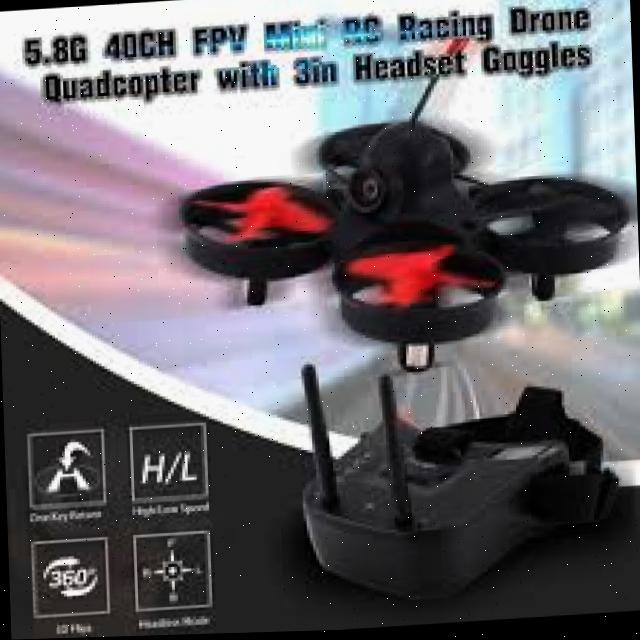drone: (137, 92, 640, 383)
